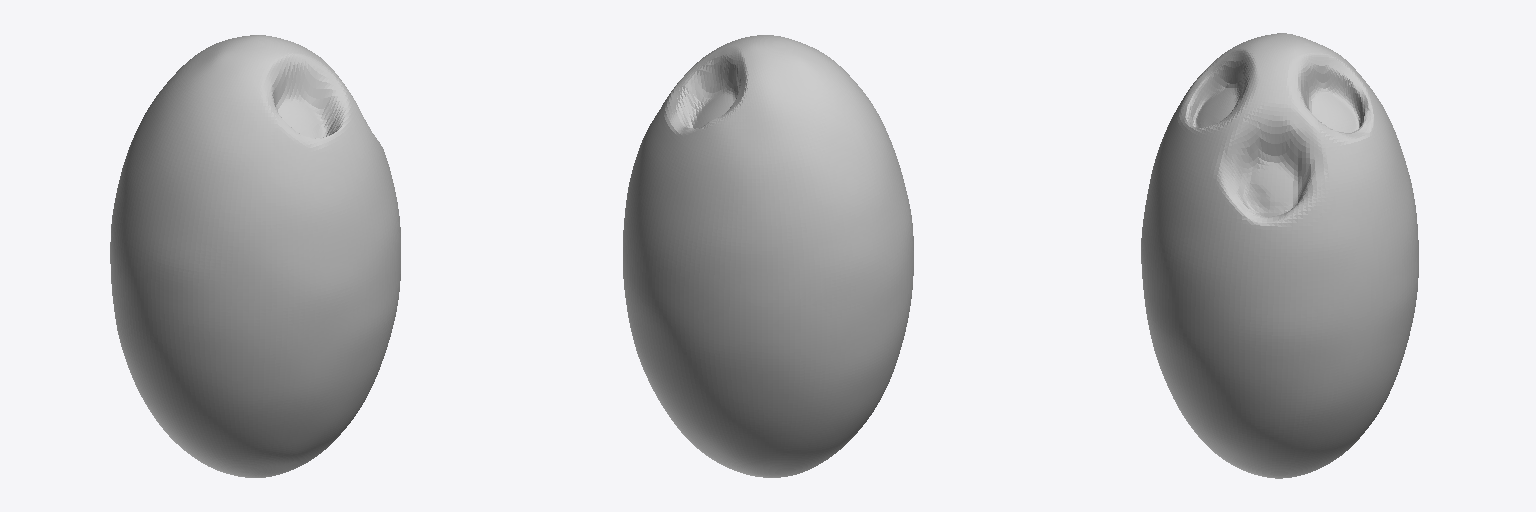
The model's file is Hp (dint use ).OBJ.
The picture shows the model from 3 angles: view 1: azimuth 30°, elevation 25°; view 2: azimuth 150°, elevation 25°; view 3: azimuth 270°, elevation 25°; orthographic projection.
Parts seen in each view (by area): view 1: ZBrush_defualt_group; view 2: ZBrush_defualt_group; view 3: ZBrush_defualt_group.
Boxes of the visible parts, x1,y1,x2,y2 form: ZBrush_defualt_group: [110, 35, 400, 477]; ZBrush_defualt_group: [623, 35, 913, 477]; ZBrush_defualt_group: [1141, 33, 1418, 478].
Size of the model in its own units: 6.25 by 9.92 by 5.85.